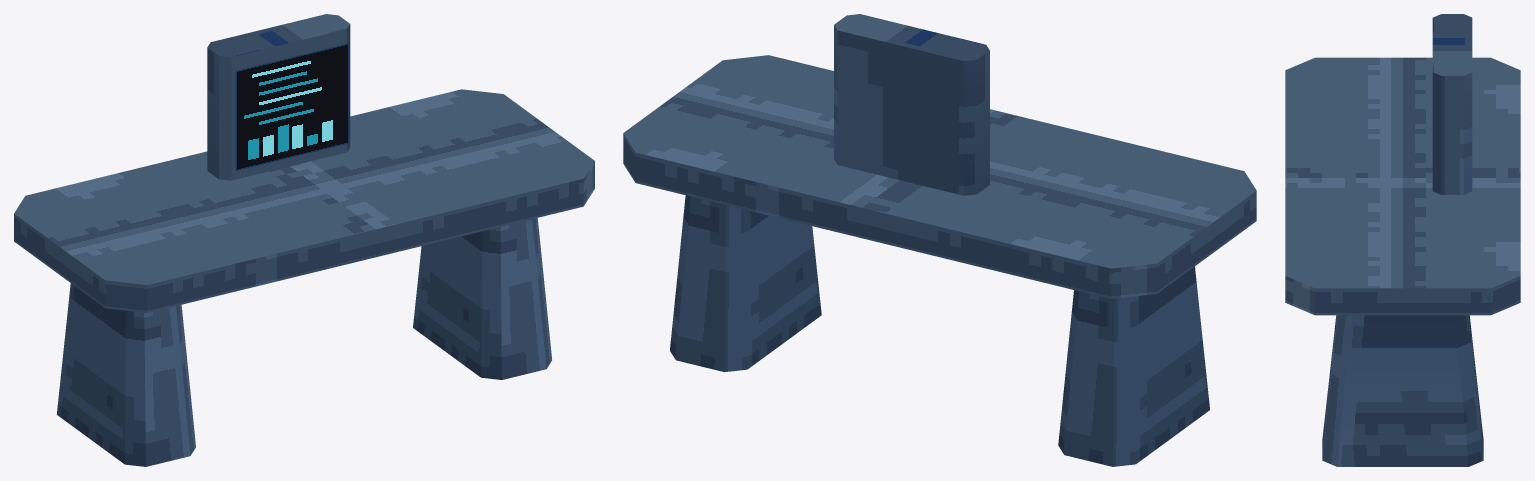
File: cyroom.desk__single.glb
3 renders of one model, left to right at view 1: azimuth 30°, elevation 25°; view 2: azimuth 150°, elevation 25°; view 3: azimuth 270°, elevation 25°, orthographic. The views are drawn at different scales.
Visible parts, largest first — view 1: kit_body, kit_card_details; view 2: kit_body; view 3: kit_body.
Part boxes in pixels (bbox=[...]): kit_body: bbox=[14, 14, 594, 466]; kit_card_details: bbox=[235, 43, 348, 170]; kit_body: bbox=[623, 14, 1256, 466]; kit_body: bbox=[1285, 14, 1520, 466].
Bounding box in the file's own units: 2.2 × 1.43 × 0.95.
4 materials, 4 textured.
